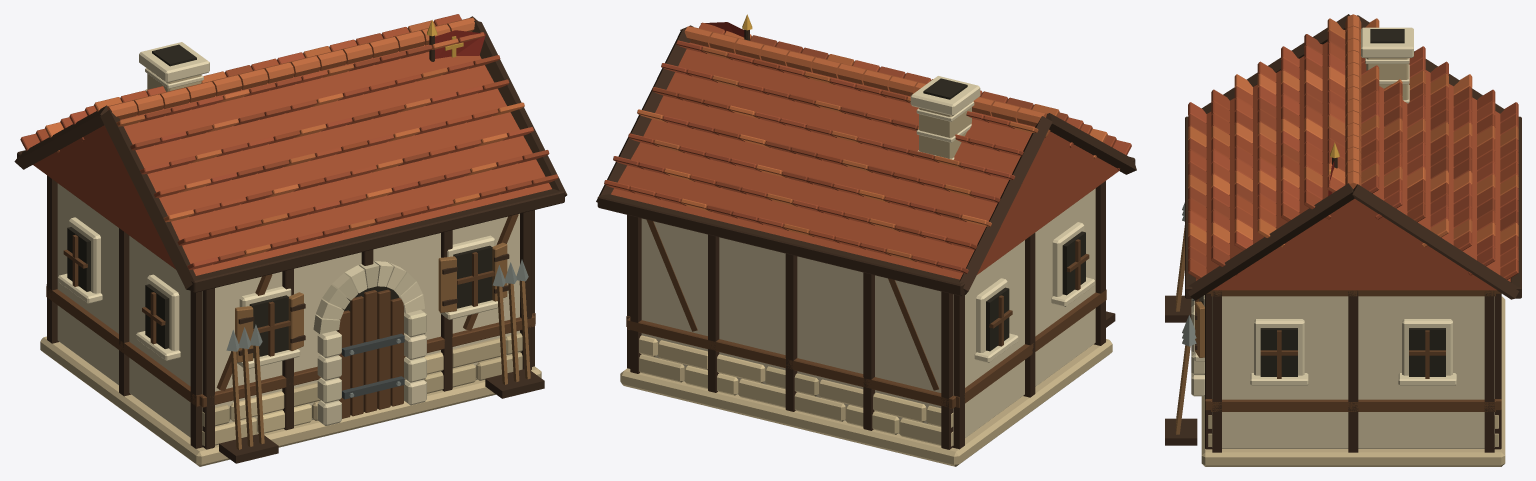
File: barracks.glb
3 views of the same model, side by side, from view 1: azimuth 30°, elevation 25°; view 2: azimuth 150°, elevation 25°; view 3: azimuth 270°, elevation 25° (orthographic). The views are drawn at different scales.
Visible parts, largest first — view 1: Roof, Stone, Timber, Metal, Fabric; view 2: Roof, Stone, Timber; view 3: Roof, Stone, Timber, Metal.
Part boxes in pixels (box(x1,y1,x2,y2)): Roof: box(20, 14, 558, 275); Stone: box(40, 42, 541, 466); Timber: box(14, 16, 567, 463); Metal: box(226, 20, 528, 399); Fabric: box(435, 30, 485, 58); Roof: box(604, 22, 1131, 279); Stone: box(620, 76, 1112, 466); Timber: box(596, 25, 1136, 449); Roof: box(1188, 14, 1518, 290); Stone: box(1191, 27, 1505, 466); Timber: box(1165, 14, 1521, 452); Metal: box(1182, 142, 1339, 346).
Size of the model in its own units: 6.72 by 5.49 by 5.76.
